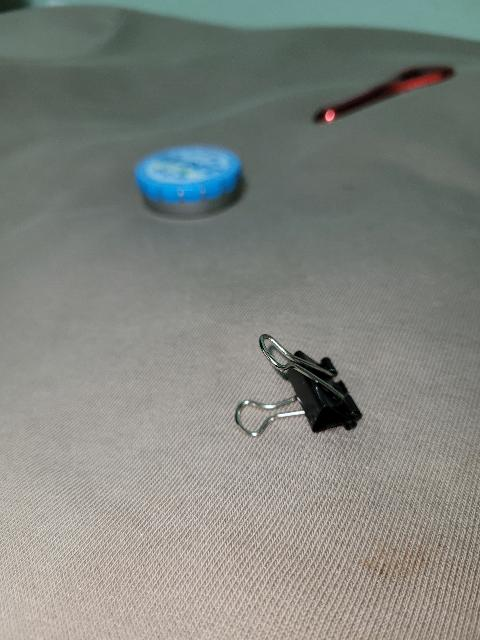Metal: (232, 331, 364, 440), (316, 62, 456, 125), (139, 144, 242, 219)
